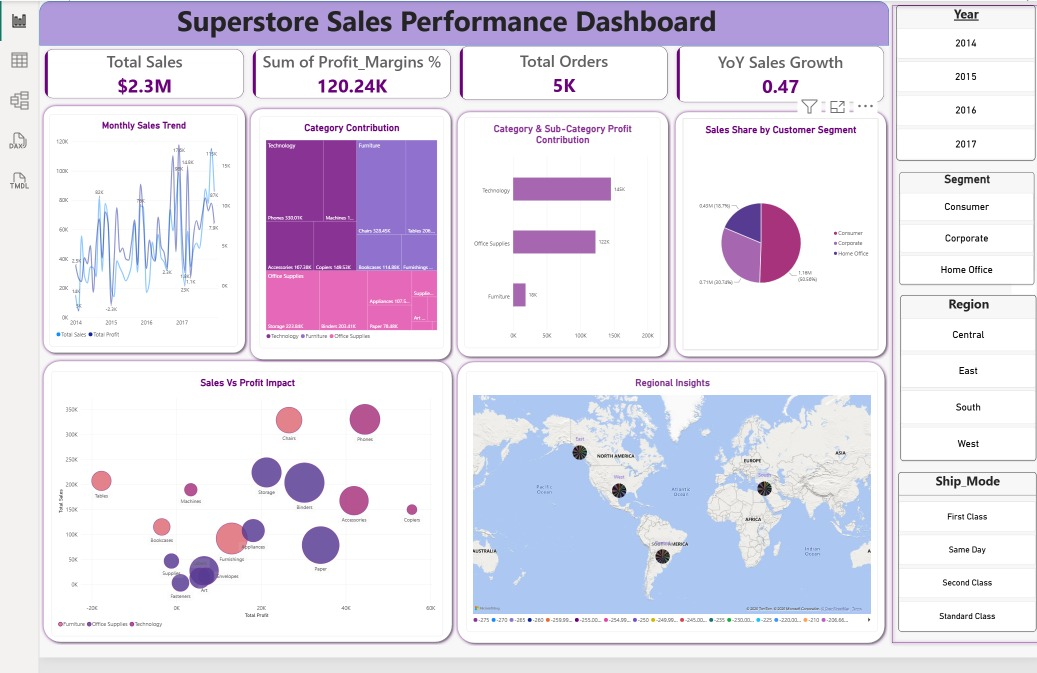

Layout of this report page (visuals, bound fields, positions):
{"tool":"powerbi","page":{"name":"Page 1","canvas":[2600,1700],"ordinal":0},"visuals":[{"type":"cardVisual","fields":{"Data":["superstore_db superstore (2).Total Sales"]},"box":[2.9,114.5,537.4,149.8],"z":0},{"type":"cardVisual","fields":{"Data":["superstore_db superstore (2).YoY Sales Growth %"]},"box":[539.8,111.7,534.5,149.8],"z":1000},{"type":"cardVisual","fields":{"Data":["superstore_db superstore (2).Total Orders"]},"box":[1077.8,105.7,560.9,161.5],"z":2000},{"type":"cardVisual","fields":{"Data":["superstore_db superstore (2).Profit Margin %"]},"box":[1638.8,105.7,558,167.4],"z":3000},{"type":"shape","box":[0,0,2200.2,115.4],"z":4000},{"type":"textbox","box":[0,413.5,425,207],"z":5000},{"type":"textbox","box":[0,657.5,425,207],"z":6000},{"type":"textbox","box":[212,0,1685,115.4],"z":7000},{"type":"shape","box":[2.9,264.3,537.4,654.9],"z":8000},{"type":"shape","box":[2.7,925.7,1073.3,743.2],"z":9000},{"type":"shape","box":[1076,928.4,1121.6,743.2],"z":10000},{"type":"shape","box":[1640.1,279.6,560.9,649],"z":11000},{"type":"lineChart","title":"Monthly Sales Trend","fields":{"Y":["superstore_db superstore (2).Total Sales"],"Category":["superstore_db superstore (2).Order_Date.Variation.Date Hierarchy.Year","superstore_db superstore (2).Order_Date.Variation.Date Hierarchy.Month"],"Y2":["superstore_db superstore (2).Total Profit"]},"box":[26.8,292.5,487.5,602.1],"z":12000},{"type":"pieChart","title":"Sales Share by Customer Segment","fields":{"Category":["superstore_db superstore (2).Segment"],"Y":["superstore_db superstore (2).Total Sales"]},"box":[1665.1,302.1,508.1,602.1],"z":13000},{"type":"map","title":"Regional Insights","fields":{"Series":["superstore_db superstore (2).Profit_Margins_Percentage"],"Category":["superstore_db superstore (2).Region"]},"box":[1105.5,957.9,1065.2,676.2],"z":14000},{"type":"scatterChart","title":"Sales Vs Profit Impact","fields":{"Series":["superstore_db superstore (2).Category"],"Category":["superstore_db superstore (2).Sub_Category"],"Size":["Sum(superstore_db superstore (2).Quantity)"],"X":["superstore_db superstore (2).Total Profit"],"Y":["superstore_db superstore (2).Total Sales"]},"box":[32.2,957.9,1014.2,686.9],"z":15000},{"type":"shape","box":[2199.3,2.5,402.5,1668.9],"z":16000},{"type":"advancedSlicerVisual","fields":{"Values":["superstore_db superstore (2).Region"]},"box":[2229.7,762,351.5,429.3],"z":17000},{"type":"advancedSlicerVisual","fields":{"Values":["superstore_db superstore (2).Year"]},"box":[2219.2,10,359.5,402.5],"z":18000},{"type":"advancedSlicerVisual","fields":{"Values":["superstore_db superstore (2).Ship_Mode"]},"box":[2224.4,1220.8,356.9,413.2],"z":19000},{"type":"advancedSlicerVisual","fields":{"Values":["superstore_db superstore (2).Segment"]},"box":[2227,442.7,348.8,292.5],"z":20000},{"type":"shape","box":[539.2,272.1,534.2,664],"z":21000},{"type":"treemap","title":"Category Contribution","fields":{"Values":["superstore_db superstore (2).Total Sales"],"Group":["superstore_db superstore (2).Category"],"Details":["superstore_db superstore (2).Sub_Category"]},"box":[569.2,297.1,476.8,601.6],"z":22000},{"type":"shape","box":[1073.4,279.6,560.9,649],"z":23000},{"type":"barChart","title":"Category & Sub-Category Profit Contribution","fields":{"Category":["superstore_db superstore (2).Category","superstore_db superstore (2).Sub_Category"],"Y":["superstore_db superstore (2).Total Profit"]},"box":[1100.9,299.6,507.1,598.3],"z":24000}]}

Visuals, with their boxes in screenshot pixels (x1, y1, x2, y2):
cardVisual - superstore_db superstore (2).Total Sales: (31, 42, 240, 100)
cardVisual - superstore_db superstore (2).YoY Sales Growth %: (240, 41, 449, 99)
cardVisual - superstore_db superstore (2).Total Orders: (450, 39, 669, 102)
cardVisual - superstore_db superstore (2).Profit Margin %: (669, 39, 887, 104)
shape: (30, 0, 888, 42)
textbox: (30, 159, 195, 239)
textbox: (30, 254, 195, 335)
textbox: (112, 0, 770, 42)
shape: (31, 100, 240, 356)
shape: (31, 358, 449, 648)
shape: (449, 359, 887, 649)
shape: (669, 106, 888, 360)
"Monthly Sales Trend" lineChart: (40, 111, 230, 346)
"Sales Share by Customer Segment" pieChart: (679, 115, 877, 350)
"Regional Insights" map: (461, 371, 876, 635)
"Sales Vs Profit Impact" scatterChart: (42, 371, 438, 639)
shape: (888, 0, 1036, 649)
advancedSlicerVisual - superstore_db superstore (2).Region: (899, 295, 1036, 462)
advancedSlicerVisual - superstore_db superstore (2).Year: (895, 1, 1036, 158)
advancedSlicerVisual - superstore_db superstore (2).Ship_Mode: (897, 474, 1036, 635)
advancedSlicerVisual - superstore_db superstore (2).Segment: (898, 170, 1034, 284)
shape: (240, 103, 448, 362)
"Category Contribution" treemap: (252, 113, 438, 348)
shape: (448, 106, 667, 360)
"Category & Sub-Category Profit Contribution" barChart: (459, 114, 657, 348)
